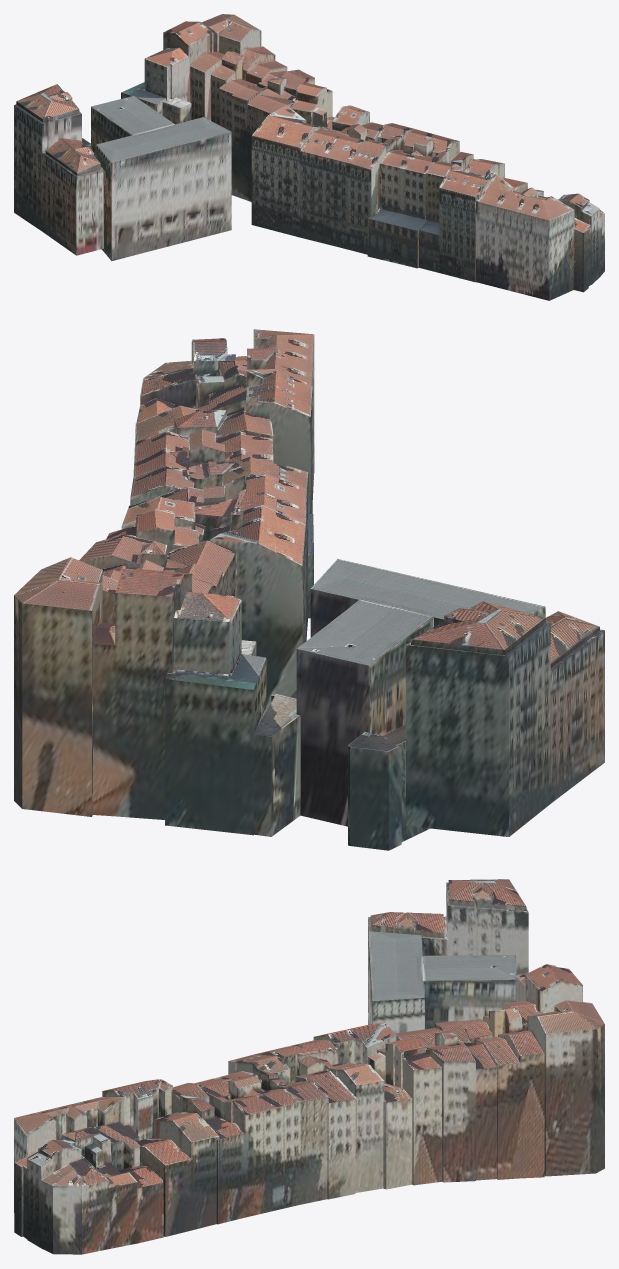
Rendered from LYON_1ER_00015.dae.
The picture shows the model from 3 angles, top to bottom: view 1: azimuth 30°, elevation 25°; view 2: azimuth 150°, elevation 25°; view 3: azimuth 270°, elevation 25°; orthographic projection. The views are drawn at different scales.
Bounding box in the file's own units: 125 × 137 × 41.67.
Materials: 1 (1 with a texture image).
